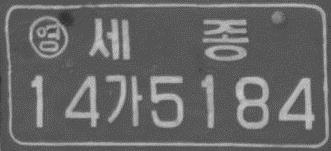1: (26, 72, 50, 129), (196, 71, 219, 129)
4: (277, 75, 316, 131), (62, 74, 101, 127)
5: (148, 73, 186, 129)
8: (234, 75, 270, 131)
가: (103, 73, 144, 128)
세종_D: (88, 14, 249, 63)
영: (27, 15, 70, 59)
